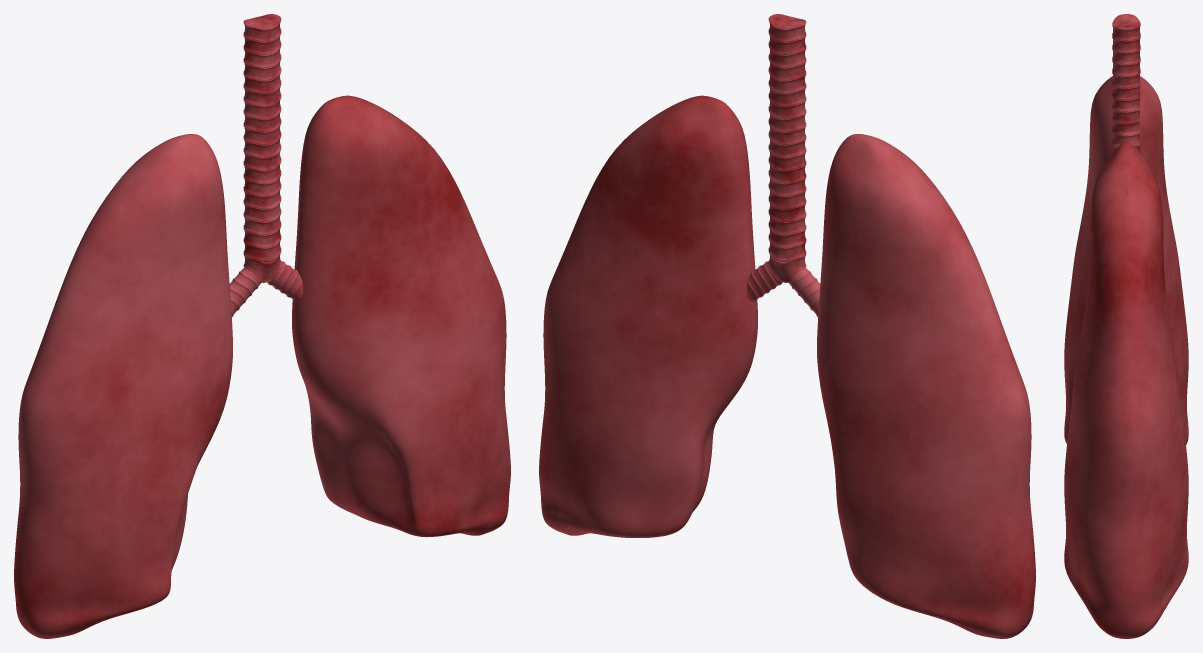
The model's file is organ2.glb.
3 renders of one model, left to right at view 1: azimuth 30°, elevation 25°; view 2: azimuth 150°, elevation 25°; view 3: azimuth 270°, elevation 25°, orthographic. The views are drawn at different scales.
Visible parts, largest first — view 1: Cylinder.001; view 2: Cylinder.001; view 3: Cylinder.001.
Part boxes in pixels (x1,y1,x2,y2): Cylinder.001: (14,14,510,638); Cylinder.001: (539,14,1035,638); Cylinder.001: (1064,14,1188,638).
Bounding box in the file's own units: 0.6921 × 0.76 × 0.166.
Materials: 1 (1 with a texture image).
